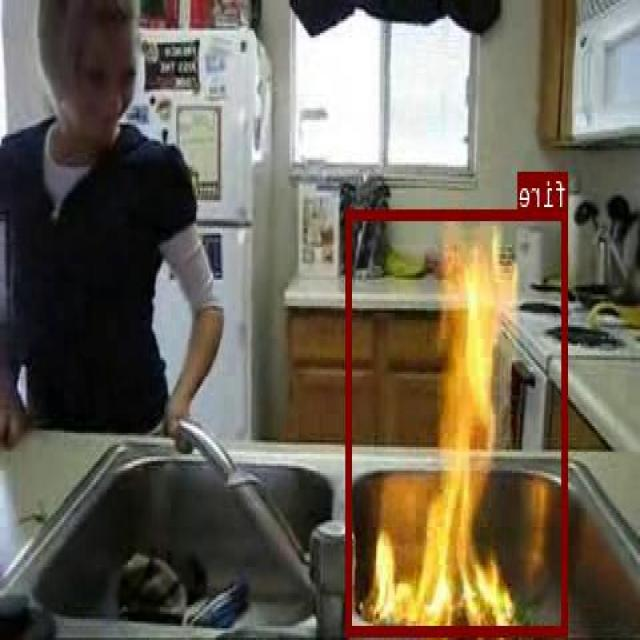fire: (348, 207, 569, 633)
